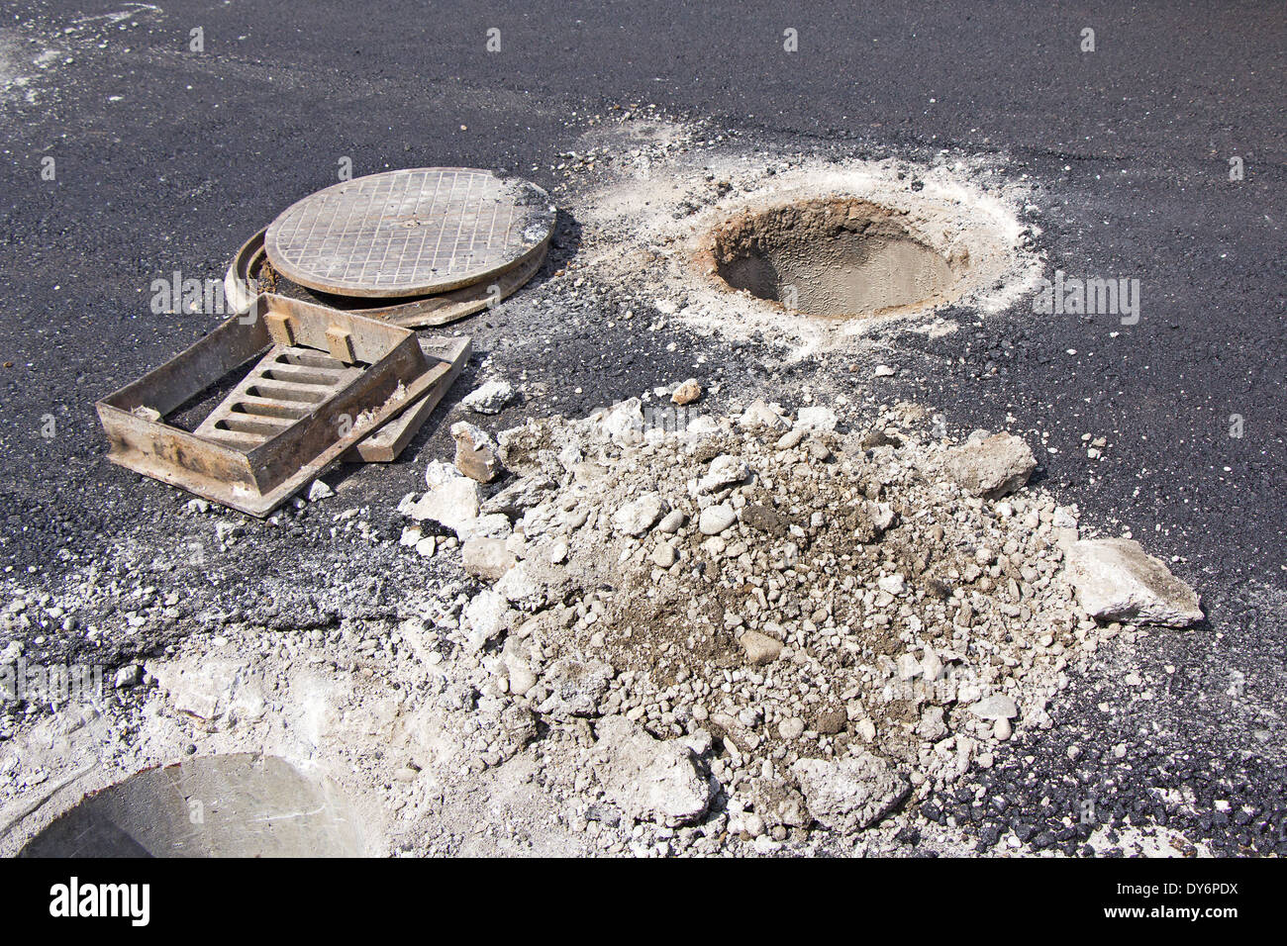Open_manhole: (250, 144, 1090, 431)
